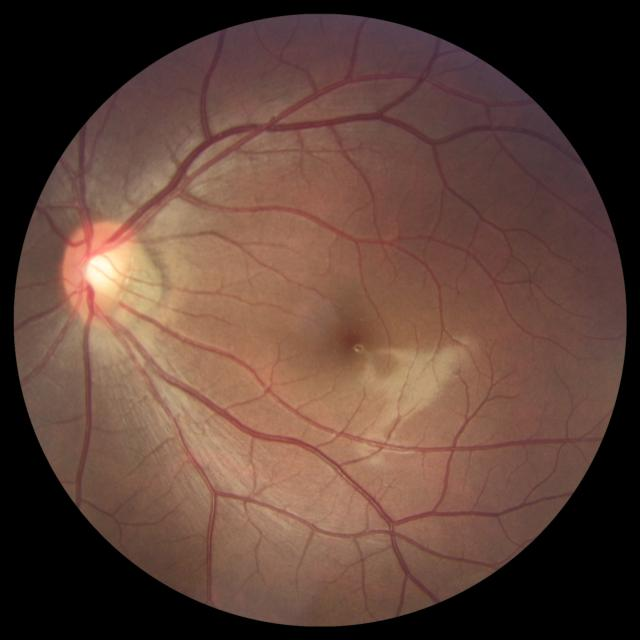OC: (81, 252, 120, 292)
OD: (60, 218, 134, 316)
